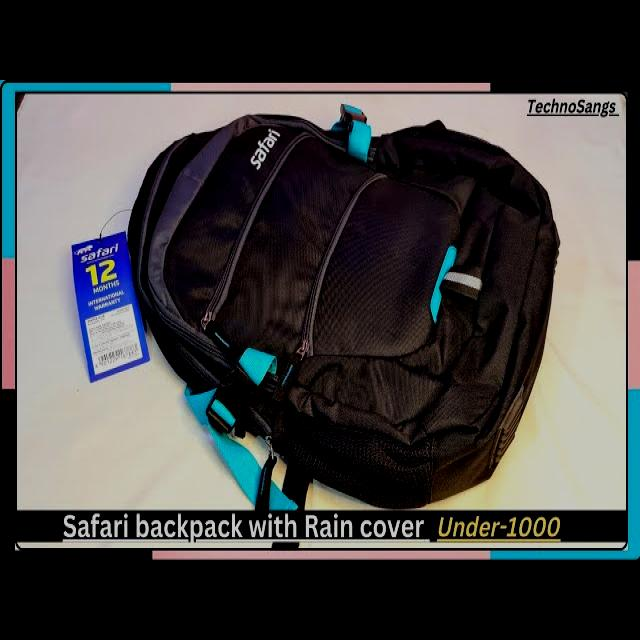backpack: (127, 104, 561, 514)
